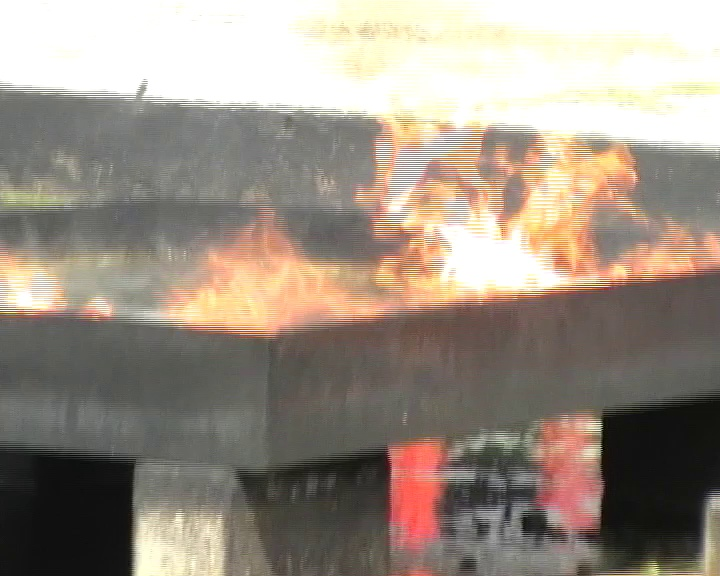fire: (371, 121, 720, 298), (175, 231, 348, 329), (1, 258, 63, 309)
